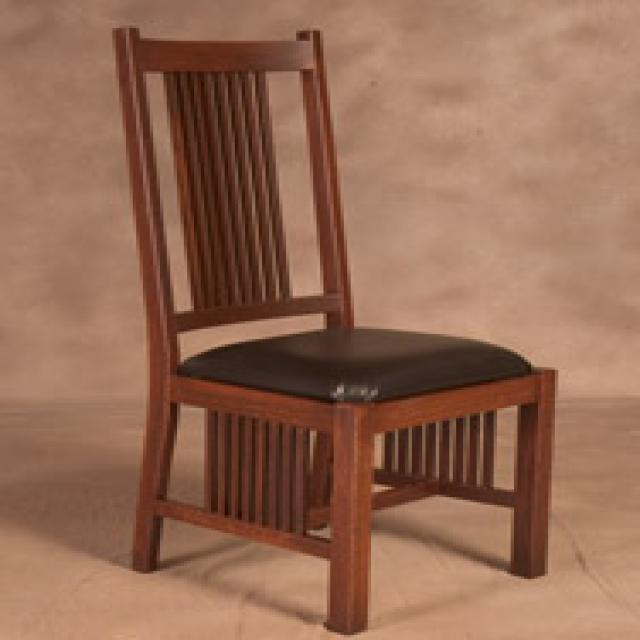chair: (109, 23, 558, 632)
